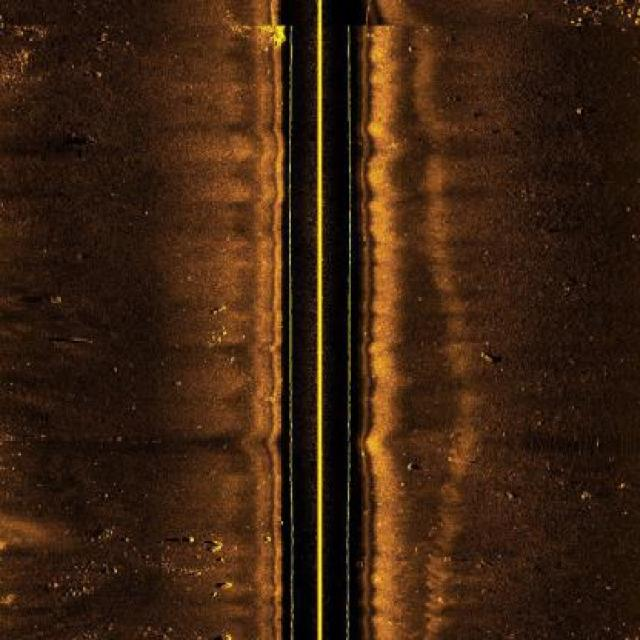mine: (45, 332, 97, 348)
other: (472, 347, 498, 368)
